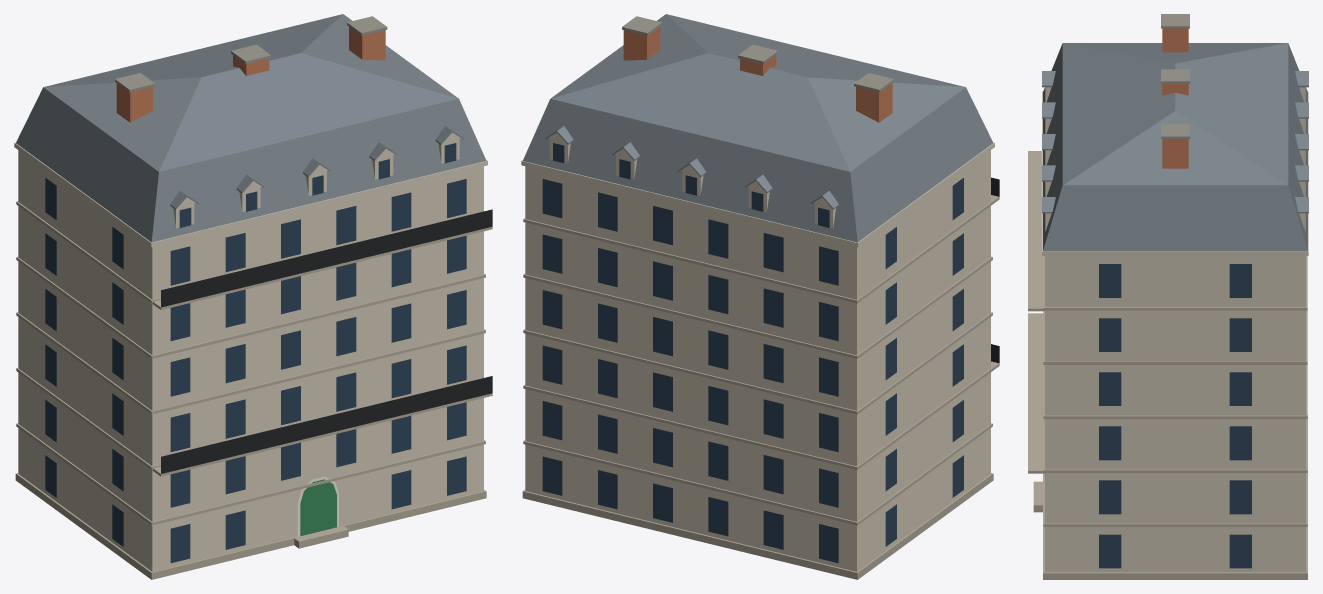
Rendered from immeuble_haussmannien.glb.
3 renders of one model, left to right at view 1: azimuth 30°, elevation 25°; view 2: azimuth 150°, elevation 25°; view 3: azimuth 270°, elevation 25°, orthographic. The views are drawn at different scales.
Visible parts, largest first — view 1: immeuble_haussmannien; view 2: immeuble_haussmannien; view 3: immeuble_haussmannien.
Boxes of the visible parts, box(x1,y1,x2,y2) form: immeuble_haussmannien: box(14, 14, 492, 579); immeuble_haussmannien: box(521, 14, 999, 579); immeuble_haussmannien: box(1028, 14, 1308, 579).
Size of the model in its own units: 20.3 by 25.15 by 15.05.
Materials: 1 (1 with a texture image).
